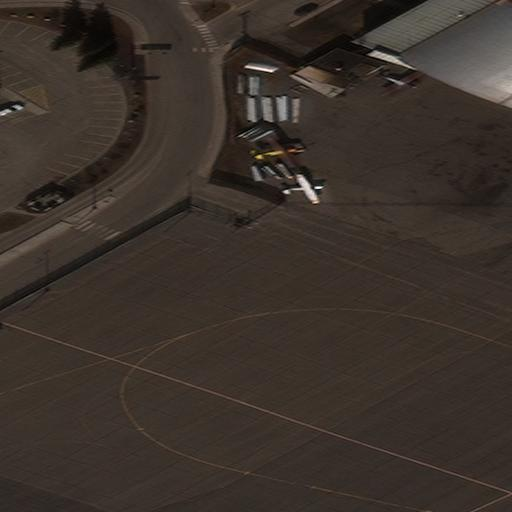Small Civil Transport: (254, 138, 294, 167), (282, 174, 322, 202), (383, 73, 421, 95)
